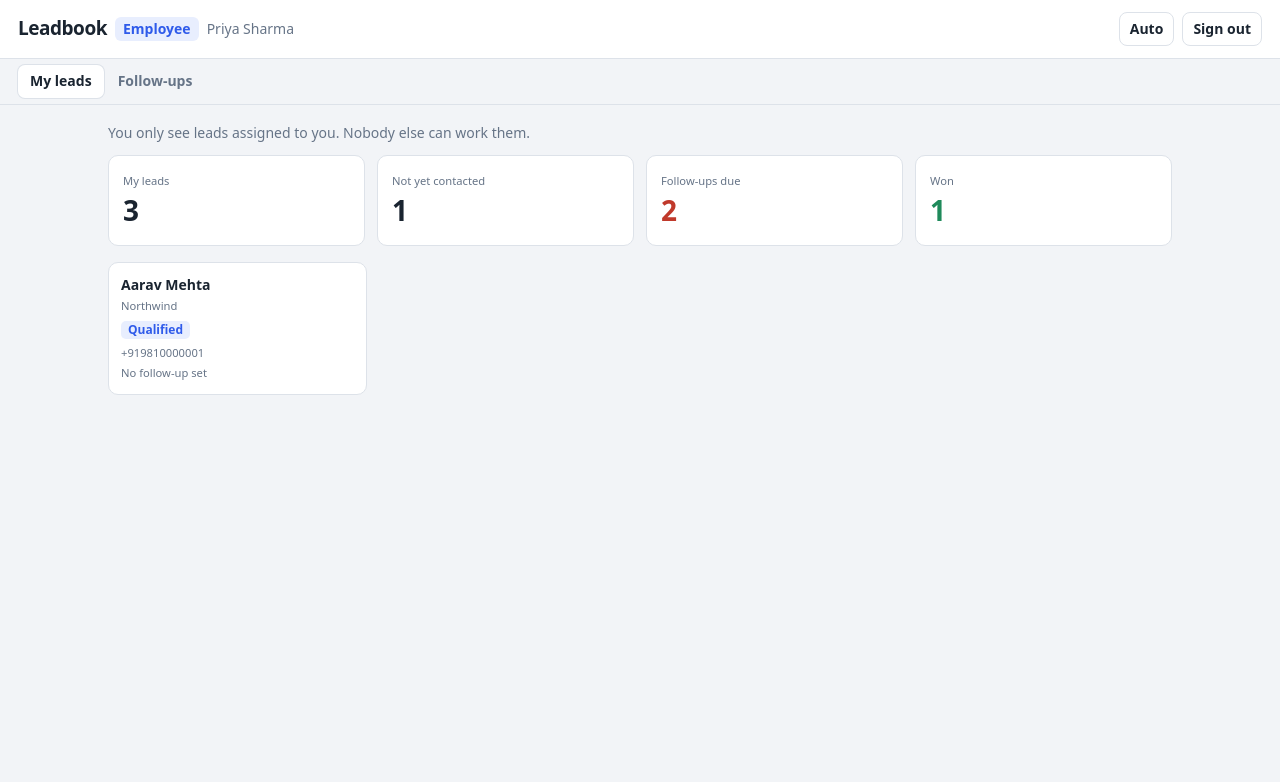
Test: Lead drawer for employees (8.2) › shows the follow-up the server set after 'No answer' (tomorrow)
The width and height of the screenshot is (1280, 782).
Click the button with aria-label "Open Aarav Mehta".
click(237, 328)  # box [108,262,366,395]
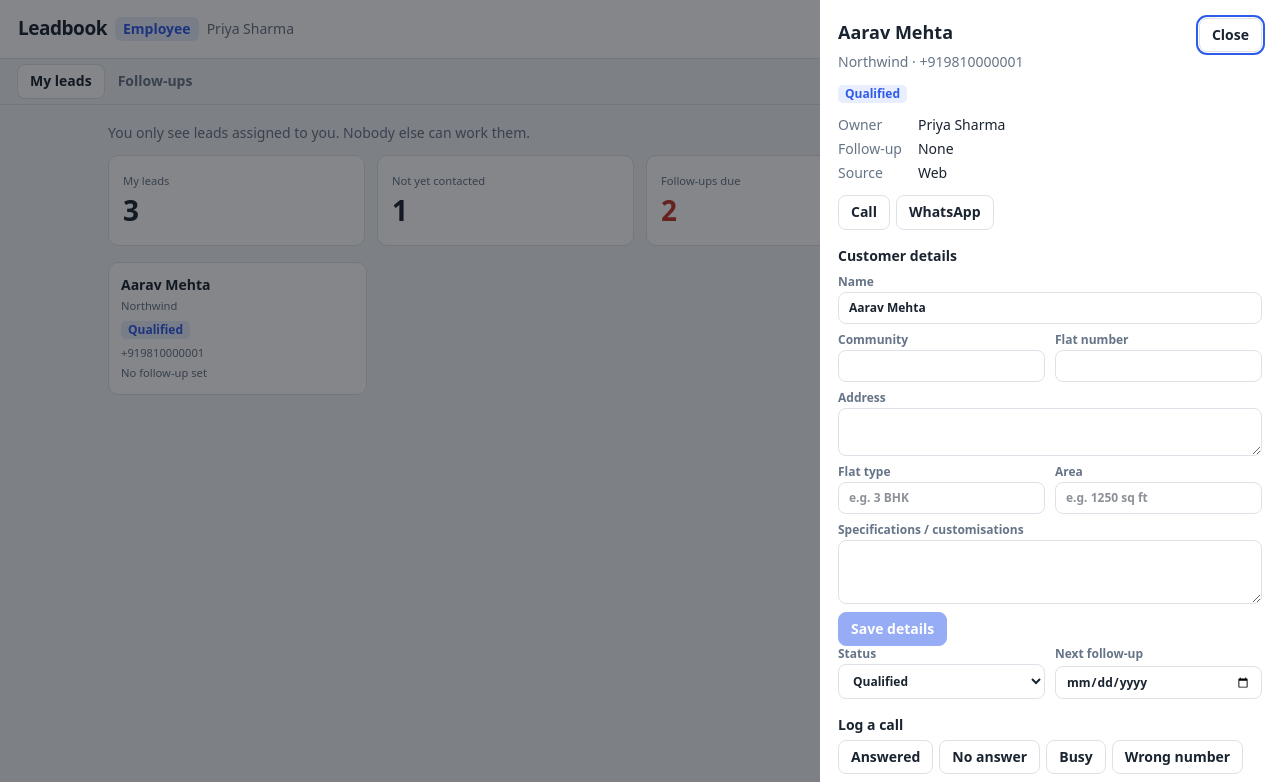
Click the button "No answer".
click(990, 757)  # box [939,740,1040,774]
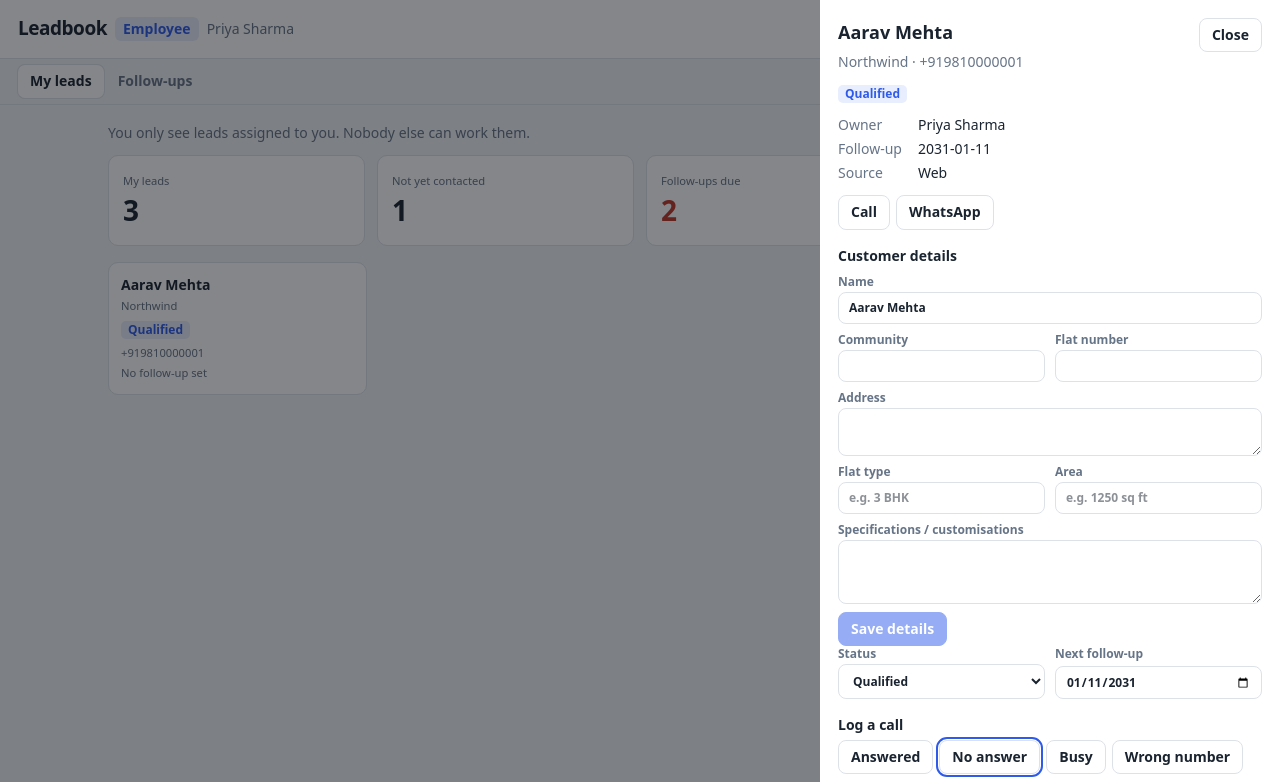
Check: the date field labelled "Next follow-up" holds "2031-01-11", box [1055,666,1262,699]
